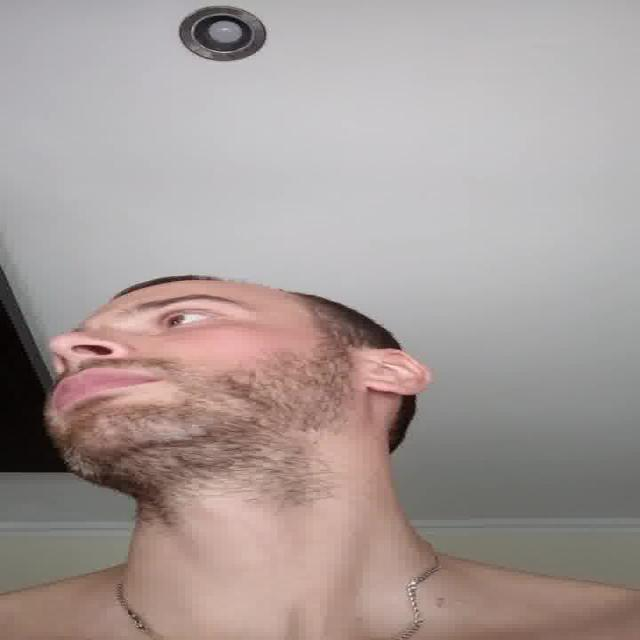earlobe: (357, 348, 432, 393)
